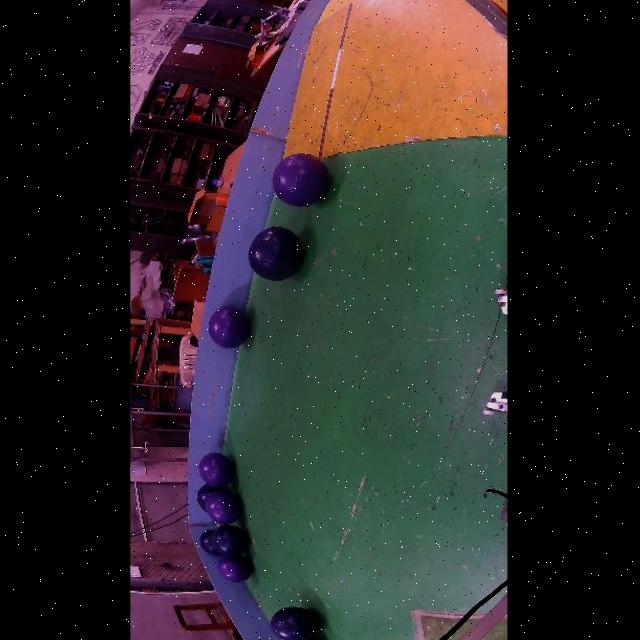B: (249, 227, 302, 280), (270, 607, 320, 640), (211, 524, 249, 557), (196, 484, 224, 511), (199, 530, 220, 556)
P: (271, 153, 329, 207), (208, 307, 250, 349), (197, 452, 233, 488), (205, 490, 241, 524), (216, 556, 251, 583)
